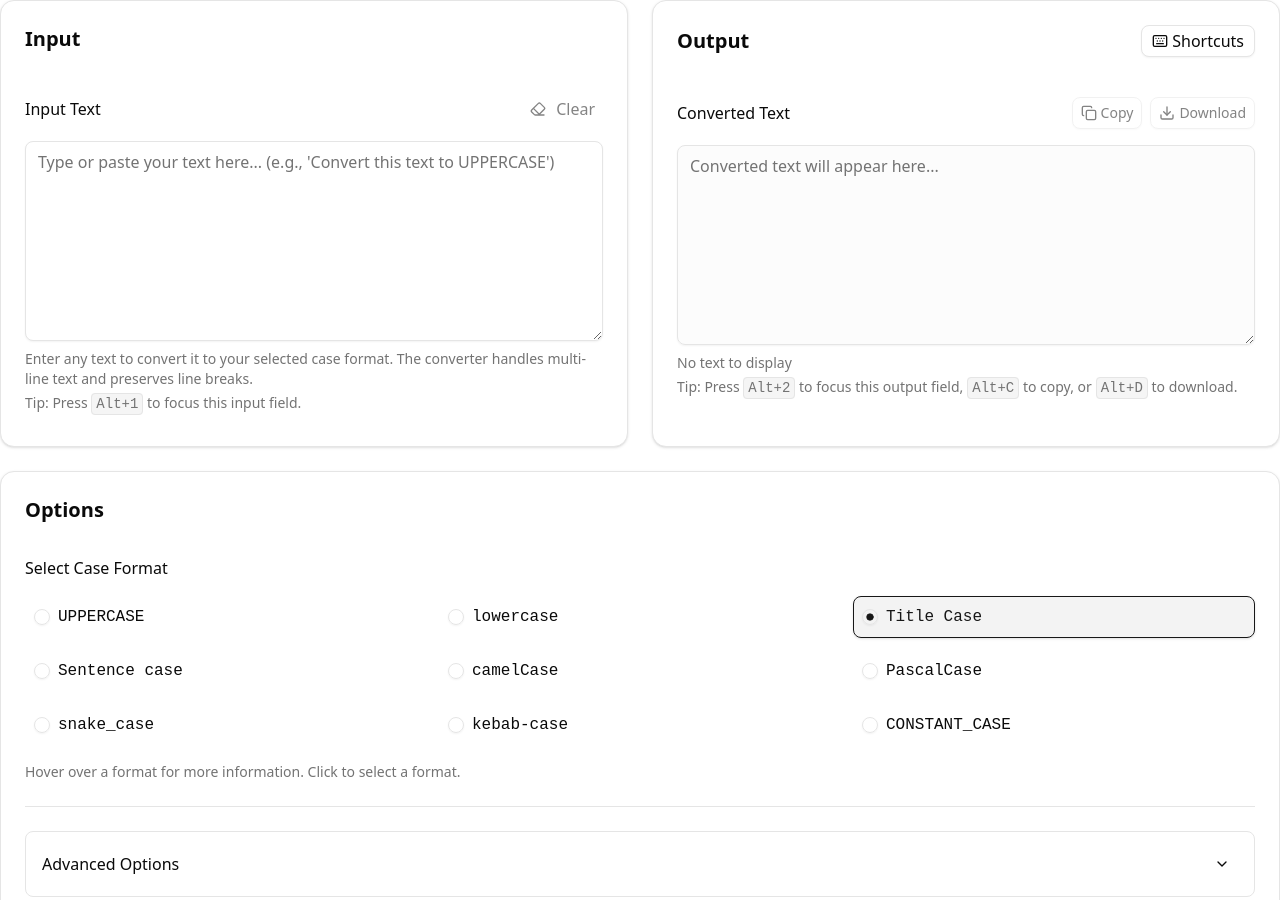
it: TextCaseConverter › maintains state consistency across component updates
Set initial state
Replace the text in the text box with test id "text-input" with "test text" at [314, 241], box [25,141,603,341]
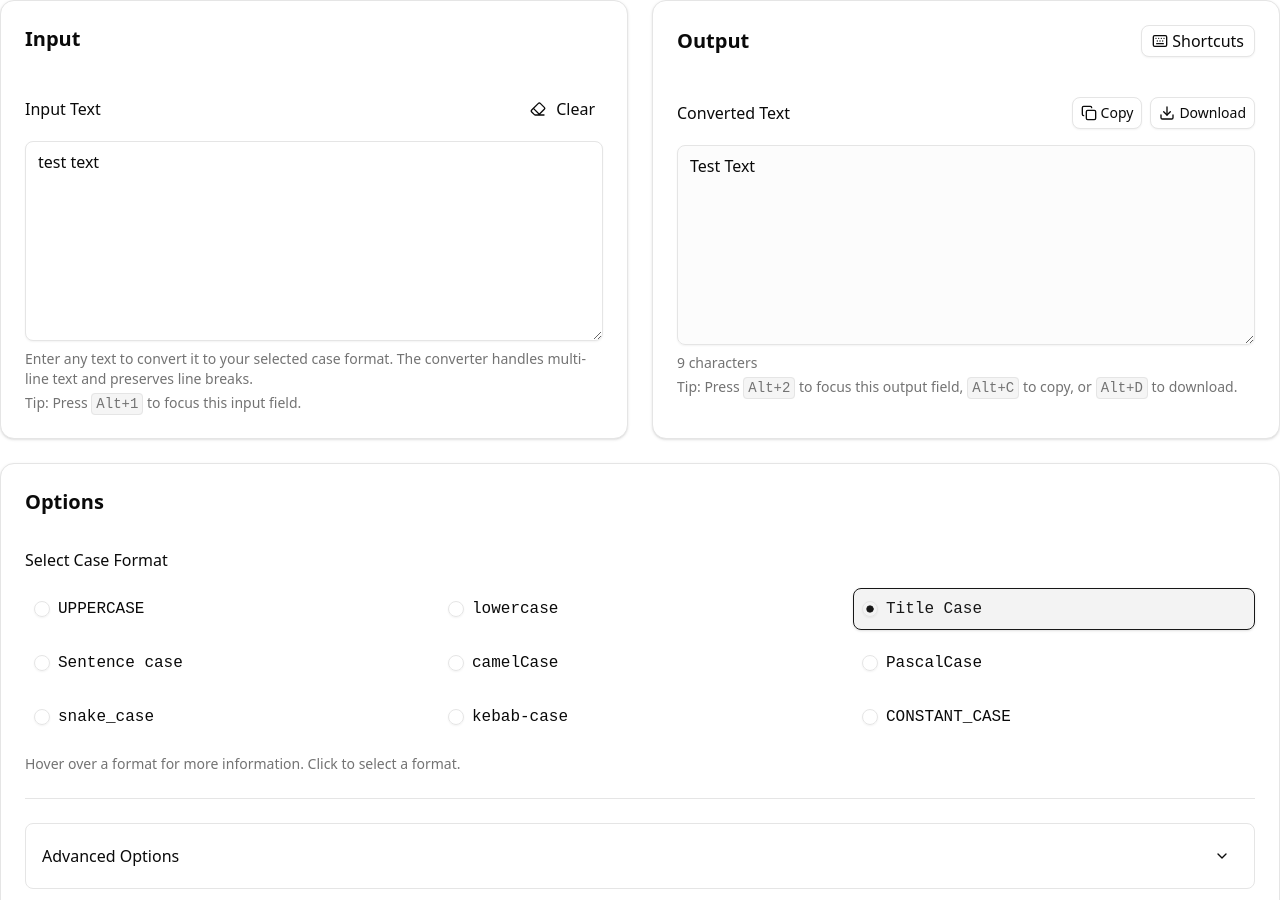
Click the radio button named "camelCase" next to "camelCase" at [456, 663], box [448,655,464,671]
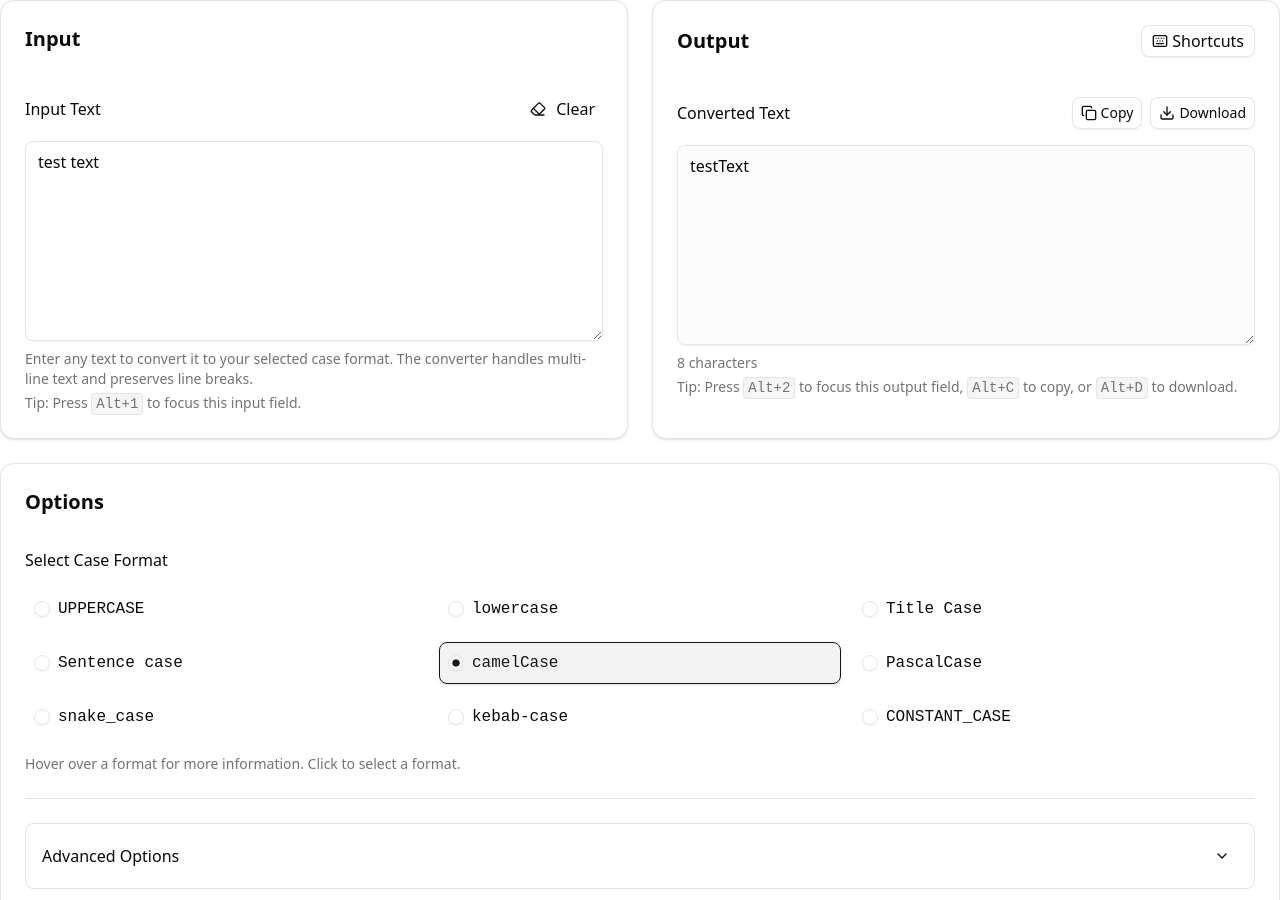
Result: the text box with test id "output-textarea" holds "testText" at [677,145,1255,345]
Change input while format is camelCase
Replace the text in the text box with test id "text-input" with "new test text" at [314, 241], box [25,141,603,341]
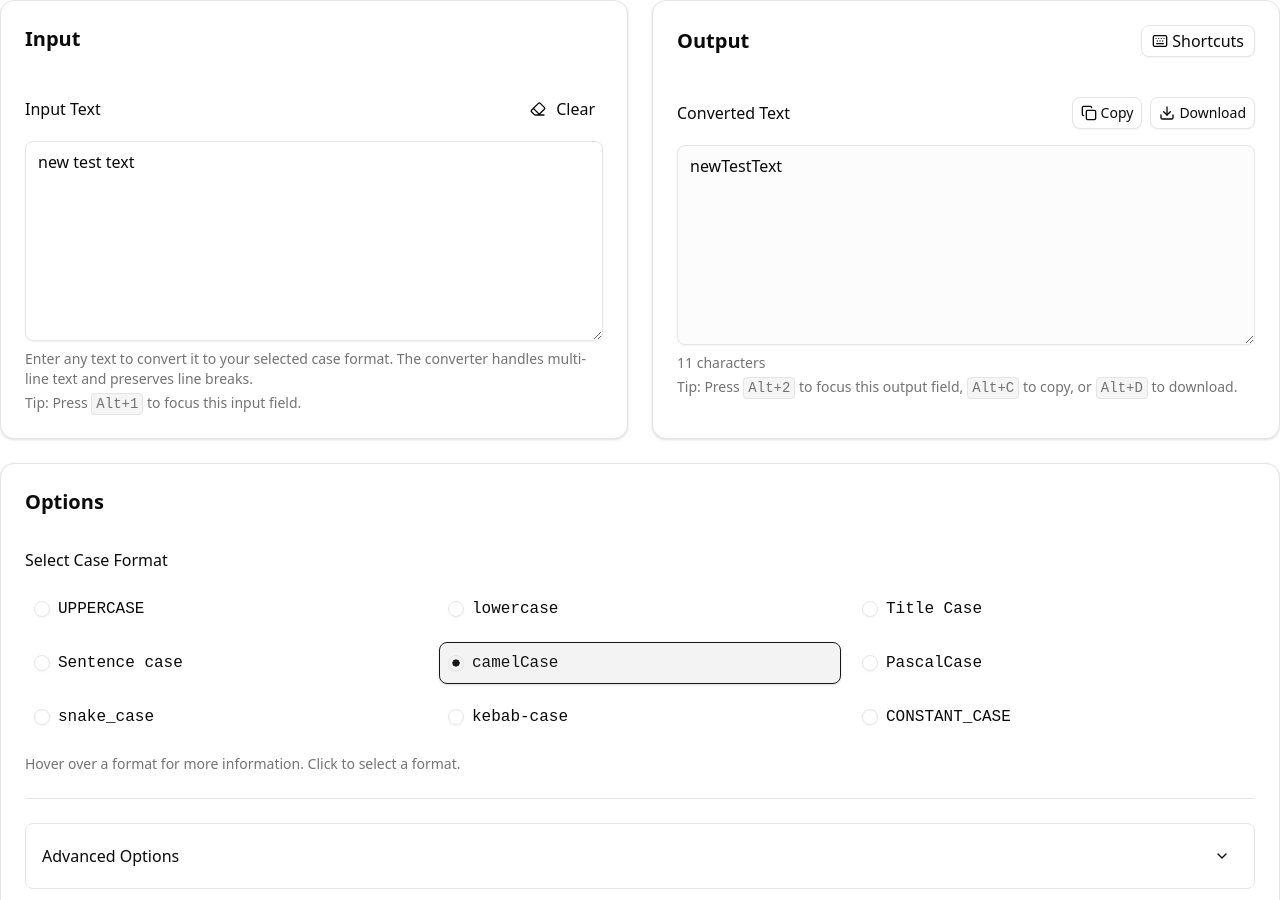
Result: the radio button named "camelCase" next to "camelCase" is checked at [448,655,464,671]
Result: the text box with test id "output-textarea" holds "newTestText" at [677,145,1255,345]
